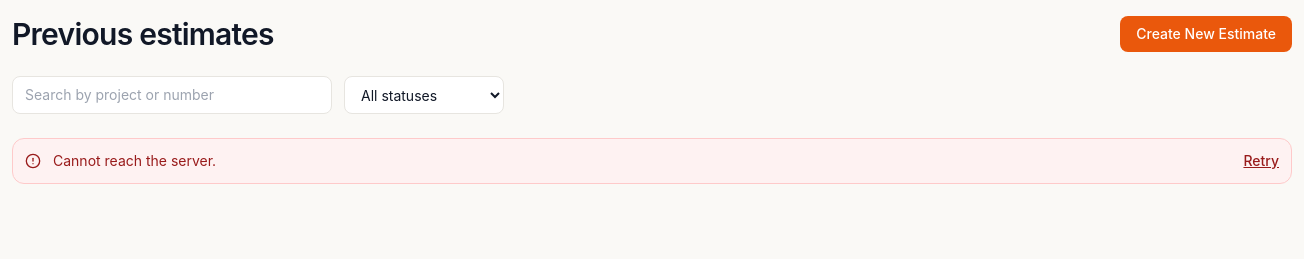
Test case: PreviousEstimates › shows an error with retry when the server is unreachable
The width and height of the screenshot is (1304, 259).
Expected: the message shows "Cannot reach the server.", [53,152,216,169]
Step 1. Click the button "Retry" → (1261,161), box [1243,151,1279,171]
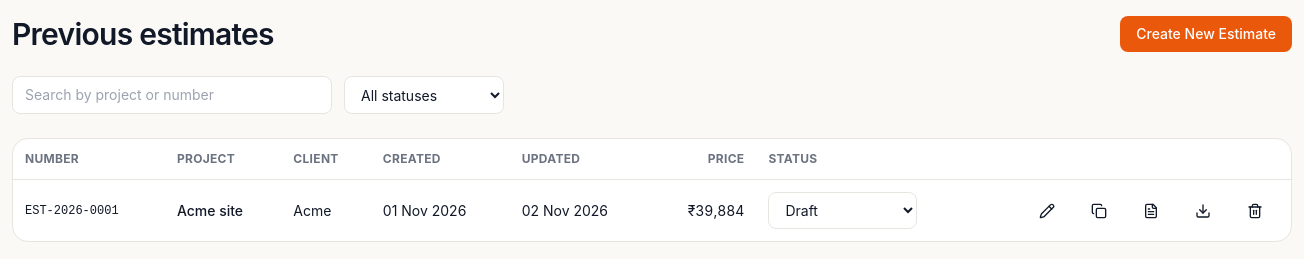
Expected: the button "Acme site" is shown, [177,200,243,220]
